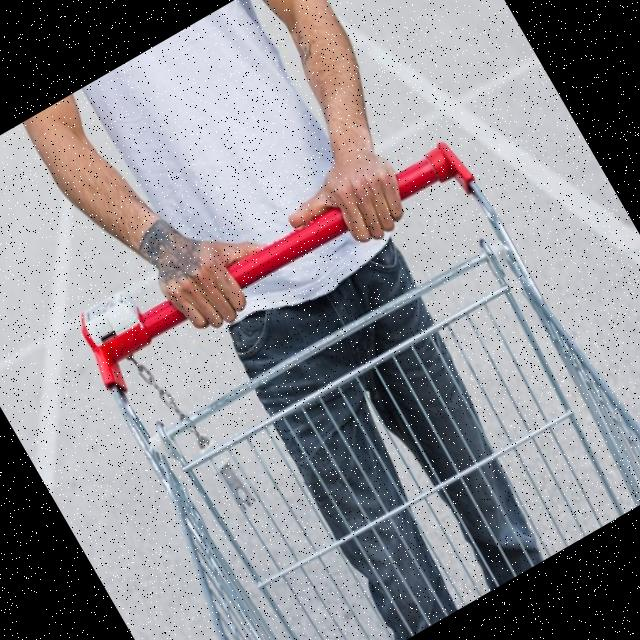Person: (19, 0, 623, 640)
